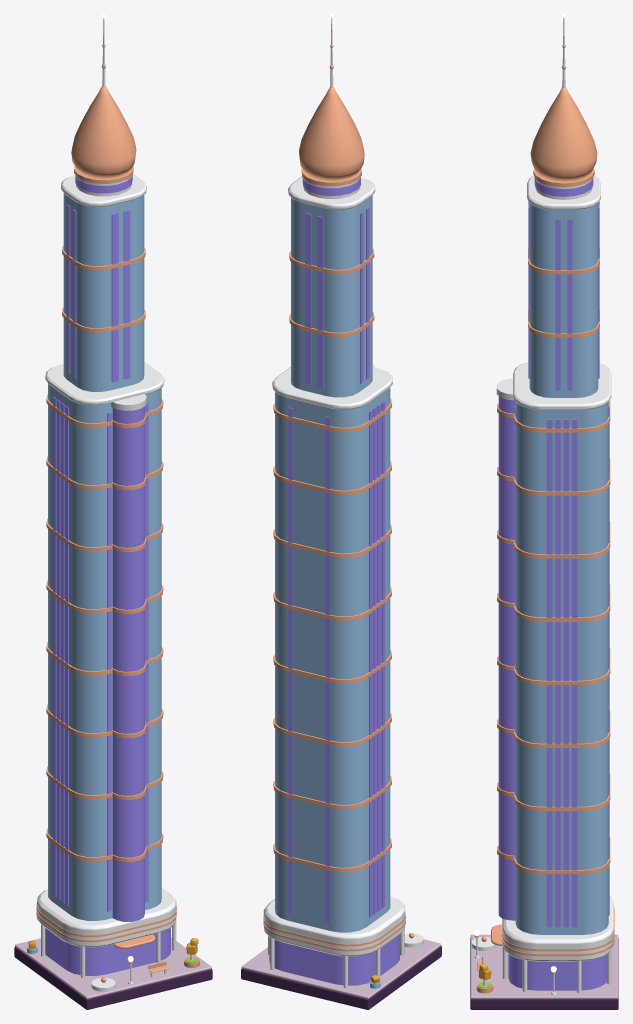
The model's file is modern_building_3_4Level_Demo.glb.
The picture shows the model from 3 angles, left to right: view 1: azimuth 30°, elevation 25°; view 2: azimuth 150°, elevation 25°; view 3: azimuth 270°, elevation 25°; orthographic projection.
Visible parts, largest first — view 1: MB3_4_Blue4, MB3_4_Glass4, MB3_4_Peach4, MB3_4_White4, MB3_4_Paving, MB3_4_Base; view 2: MB3_4_Blue4, MB3_4_Glass4, MB3_4_Peach4, MB3_4_White4, MB3_4_Paving, MB3_4_Base; view 3: MB3_4_Blue4, MB3_4_Glass4, MB3_4_Peach4, MB3_4_White4, MB3_4_Paving, MB3_4_Base.
Part boxes in pixels (x1,y1,x2,y2): MB3_4_Blue4: [27, 193, 161, 953]; MB3_4_Glass4: [45, 175, 170, 975]; MB3_4_Peach4: [36, 44, 199, 982]; MB3_4_White4: [36, 18, 193, 991]; MB3_4_Paving: [15, 937, 211, 999]; MB3_4_Base: [14, 947, 212, 1009]; MB3_4_Blue4: [275, 195, 390, 988]; MB3_4_Glass4: [269, 177, 399, 985]; MB3_4_Peach4: [263, 45, 414, 951]; MB3_4_White4: [263, 18, 423, 987]; MB3_4_Paving: [241, 939, 441, 998]; MB3_4_Base: [241, 946, 441, 1009]; MB3_4_Blue4: [515, 203, 608, 934]; MB3_4_Glass4: [498, 177, 609, 990]; MB3_4_Peach4: [475, 45, 614, 993]; MB3_4_White4: [471, 18, 613, 994]; MB3_4_Paving: [470, 934, 618, 998]; MB3_4_Base: [470, 938, 618, 1009].
Bounding box in the file's own units: 3.2 × 22.93 × 3.2.
